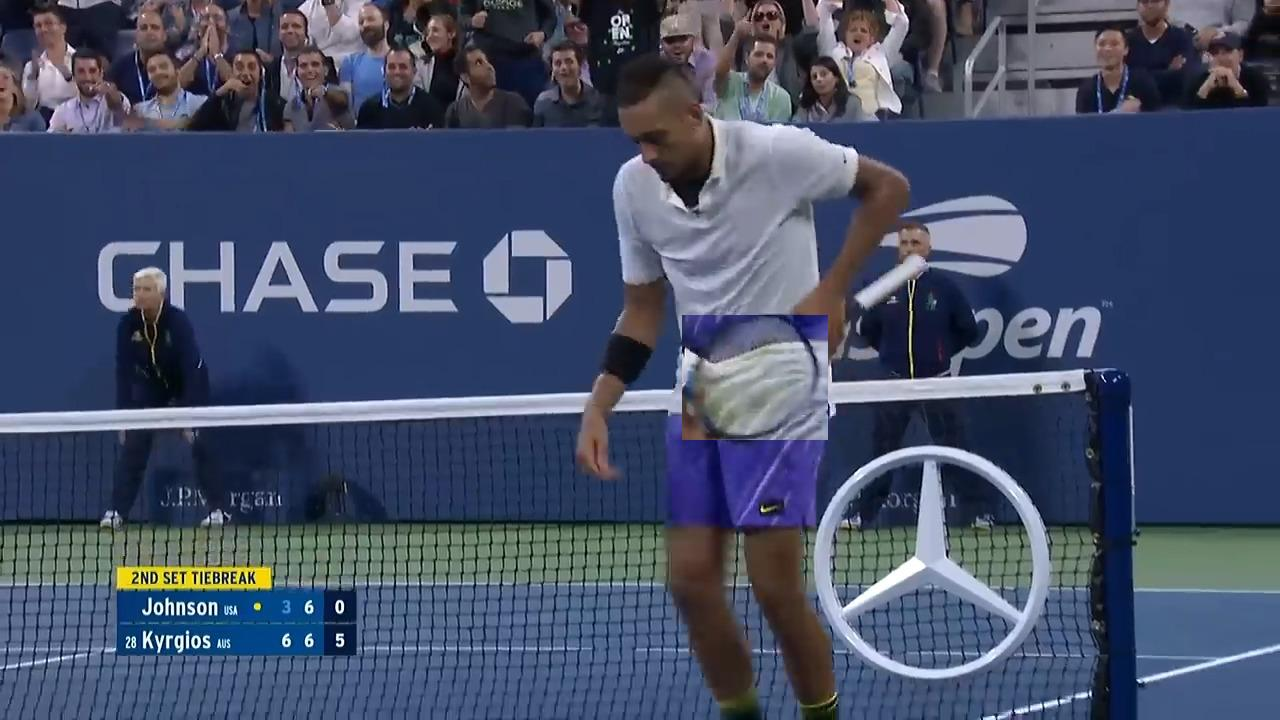tennis racket: (682, 315, 828, 440), (850, 255, 927, 311)
